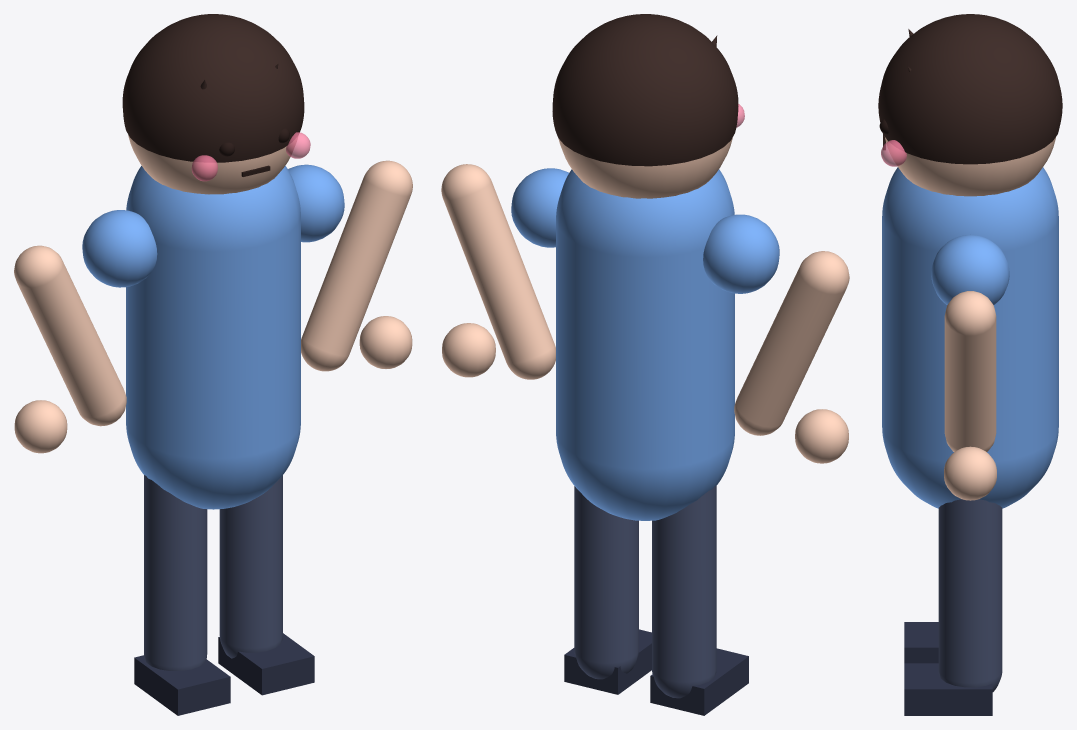
File: default-boyfriend.glb
3 renders of one model, left to right at view 1: azimuth 30°, elevation 25°; view 2: azimuth 150°, elevation 25°; view 3: azimuth 270°, elevation 25°, orthographic. The views are drawn at different scales.
Visible parts, largest first — view 1: BodyMesh, HairMesh, LeftLegMesh, RightHandMesh, RightLegMesh, LeftHandMesh, LeftShoulderMesh, HeadMesh, LeftFootMesh, RightFootMesh, RightShoulderMesh, RightPalmMesh (+1 smaller); view 2: BodyMesh, HairMesh, LeftLegMesh, RightHandMesh, RightLegMesh, LeftHandMesh, LeftShoulderMesh, HeadMesh, RightShoulderMesh, LeftFootMesh, RightPalmMesh, LeftPalmMesh (+1 smaller); view 3: BodyMesh, HairMesh, RightLegMesh, RightHandMesh, HeadMesh, RightShoulderMesh, RightFootMesh, RightPalmMesh, LeftFootMesh, FaceBlushRightMesh.
Boxes of the visible parts, x1,y1,x2,y2 form: BodyMesh: (126, 166, 300, 509); HairMesh: (122, 14, 304, 162); LeftLegMesh: (144, 475, 207, 670); RightHandMesh: (301, 160, 412, 371); RightLegMesh: (219, 475, 282, 658); LeftHandMesh: (14, 245, 126, 426); LeftShoulderMesh: (82, 210, 157, 287); HeadMesh: (128, 135, 297, 194); LeftFootMesh: (134, 655, 230, 715); RightFootMesh: (218, 633, 314, 695); RightShoulderMesh: (288, 164, 344, 242); RightPalmMesh: (359, 316, 412, 368); BodyMesh: (556, 169, 734, 520); HairMesh: (552, 14, 738, 166); LeftLegMesh: (652, 485, 716, 698); RightHandMesh: (441, 164, 555, 379); RightLegMesh: (574, 486, 638, 679); LeftHandMesh: (734, 251, 849, 435); LeftShoulderMesh: (703, 214, 779, 293); HeadMesh: (558, 137, 732, 198); RightShoulderMesh: (511, 168, 568, 247); LeftFootMesh: (650, 648, 748, 715); RightPalmMesh: (442, 323, 495, 377); LeftPalmMesh: (795, 409, 848, 463); BodyMesh: (882, 167, 1058, 508); HairMesh: (878, 14, 1062, 164); RightLegMesh: (938, 499, 1002, 691); RightHandMesh: (944, 291, 996, 451); HeadMesh: (885, 137, 1055, 196); RightShoulderMesh: (931, 234, 1009, 304); RightFootMesh: (904, 663, 992, 715); RightPalmMesh: (944, 446, 996, 500); LeftFootMesh: (904, 622, 938, 663); FaceBlushRightMesh: (881, 140, 906, 166).
Bounding box in the file's own units: 1.86 × 2.96 × 0.7498.
